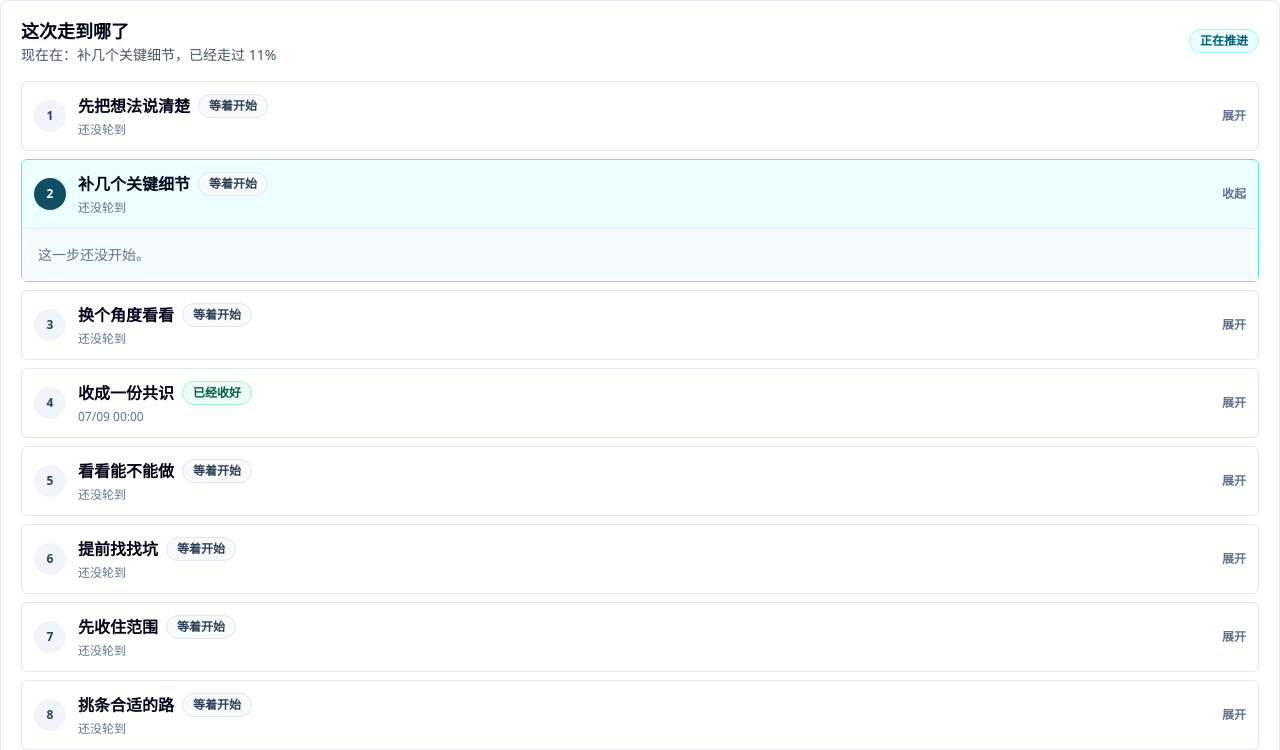
Test case: StageRail › turns a stored JSON result into named Chinese fields
Click the heading "4 收成一份共识 已经收好 07/09 00:00 展开".
click(50, 403)  # box [22,369,1258,437]
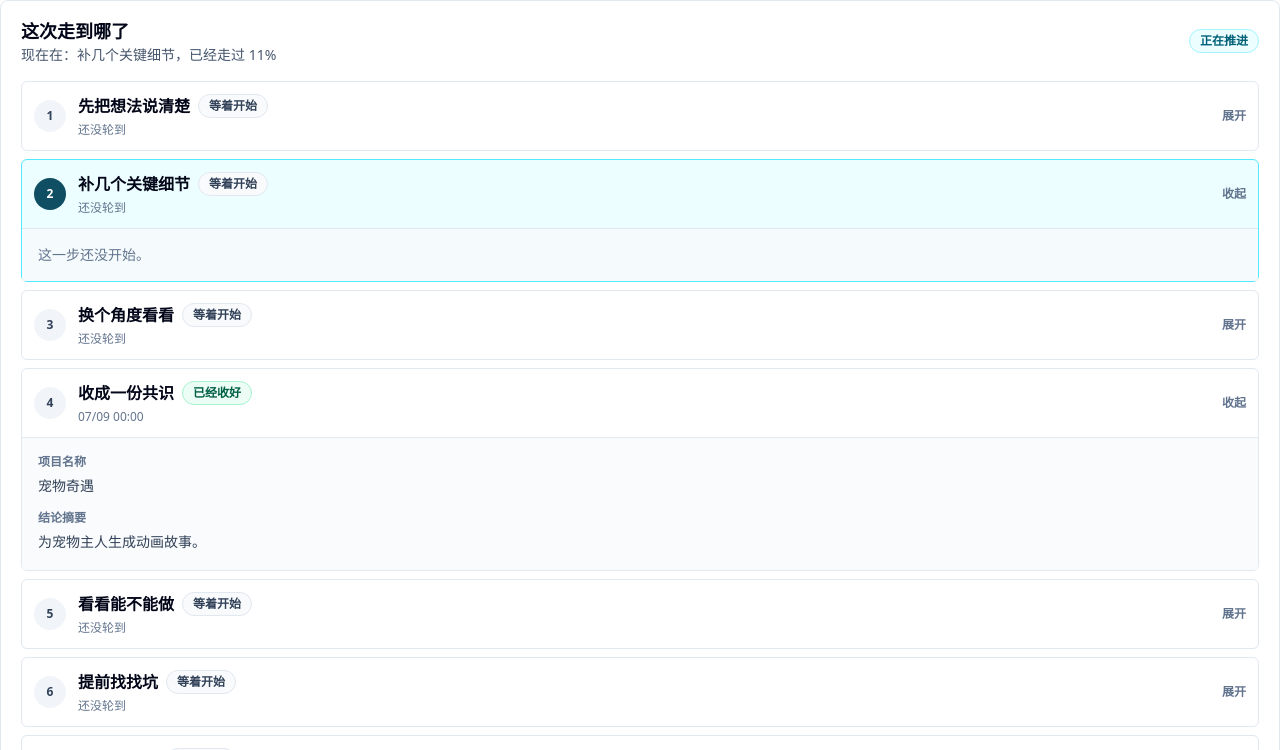
Expected: the text "项目名称" is shown, [38,453,86,470]
Expected: the text "宠物奇遇" is shown, [38,476,94,495]
